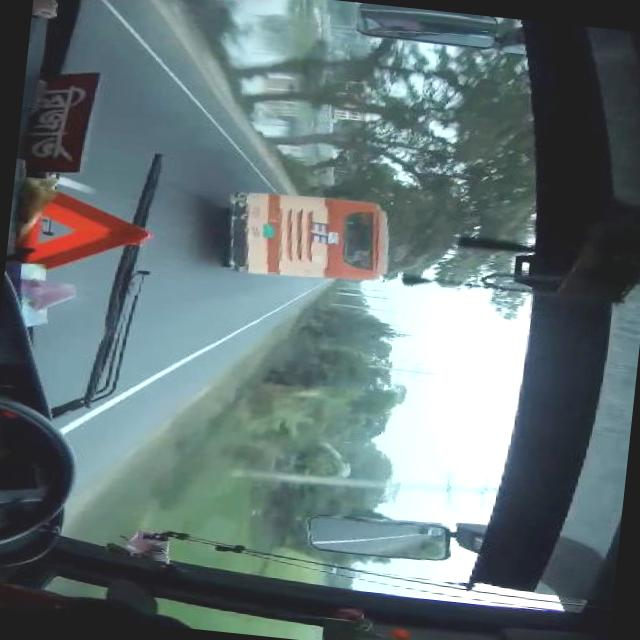bus: (222, 185, 392, 284)
